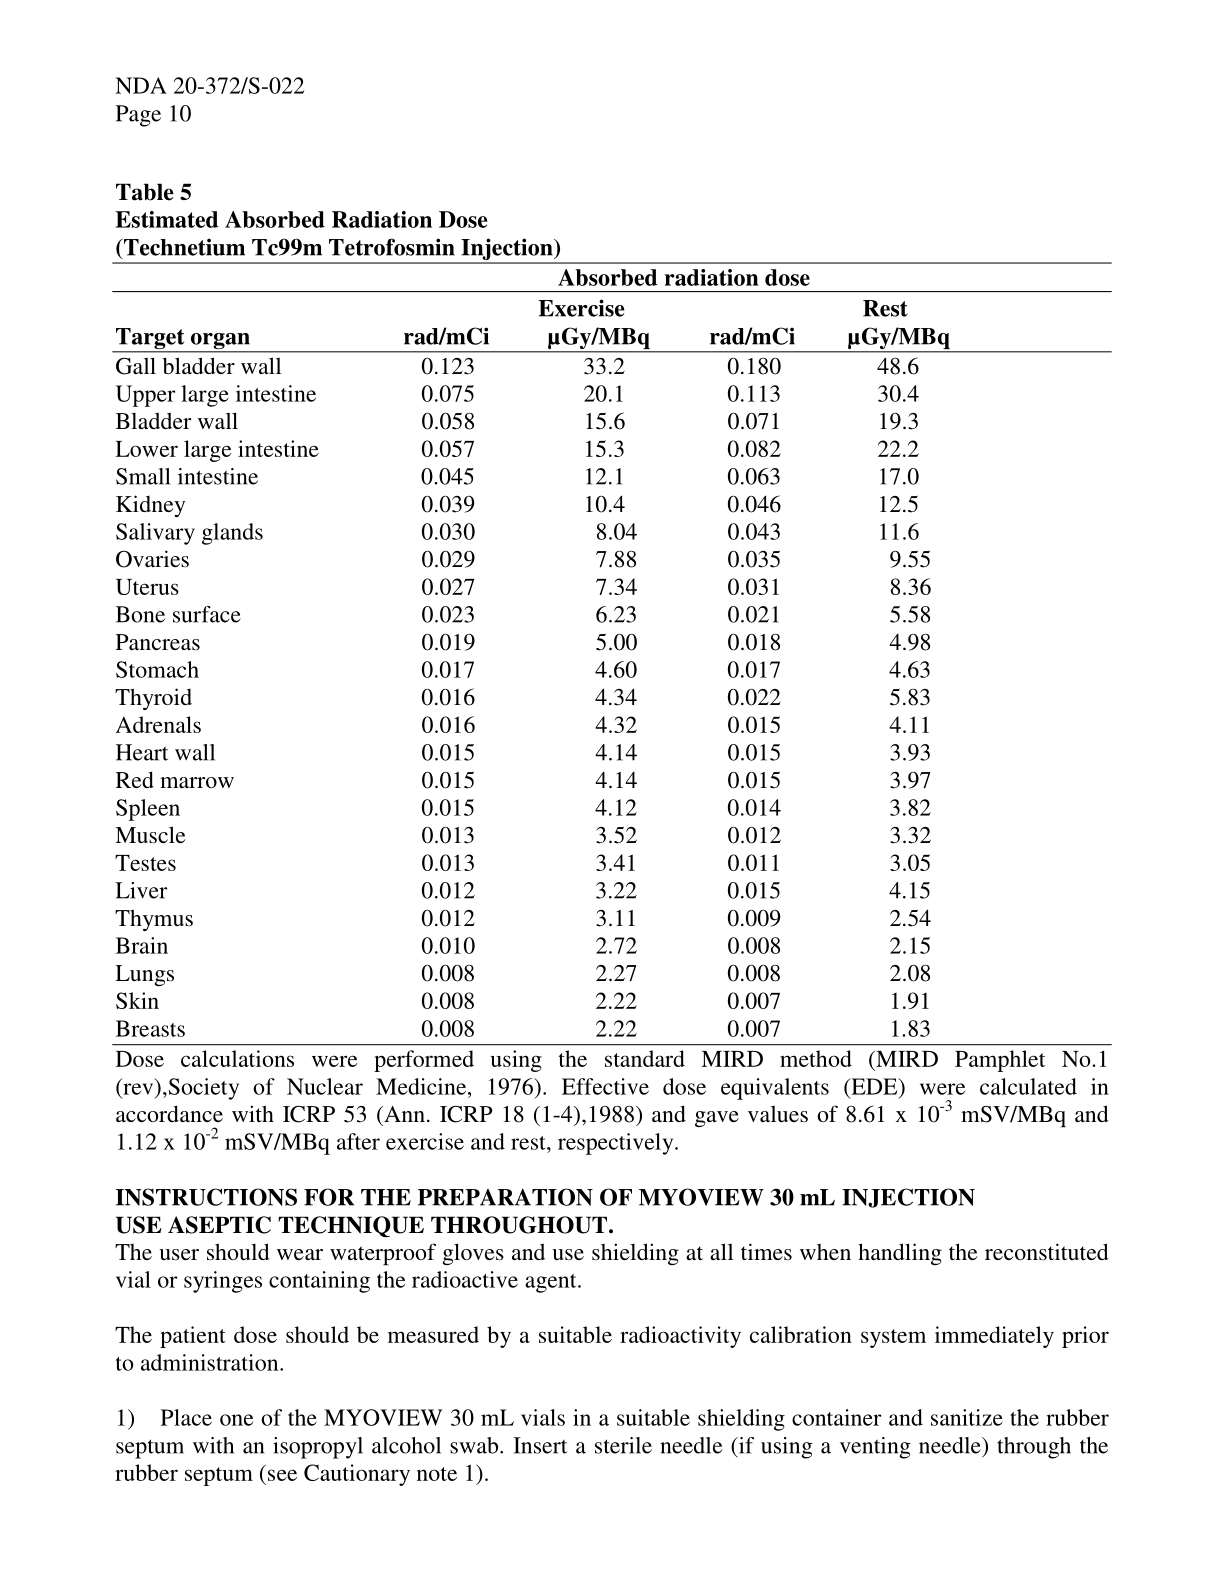partial_lined_merged_cells: (109, 258, 1119, 1047)
